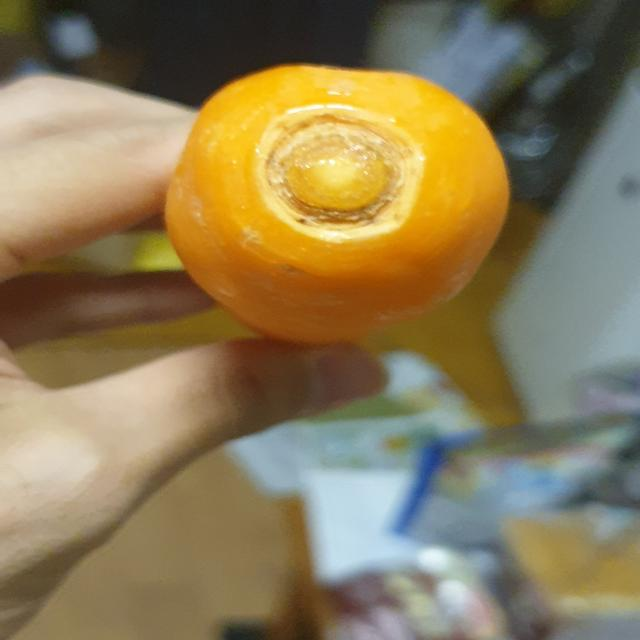Carrot: (147, 51, 524, 346)
